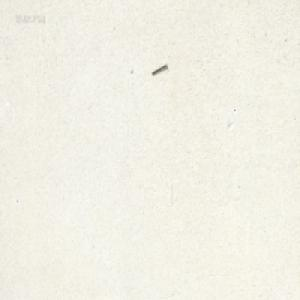Bolt: (150, 64, 166, 77)
